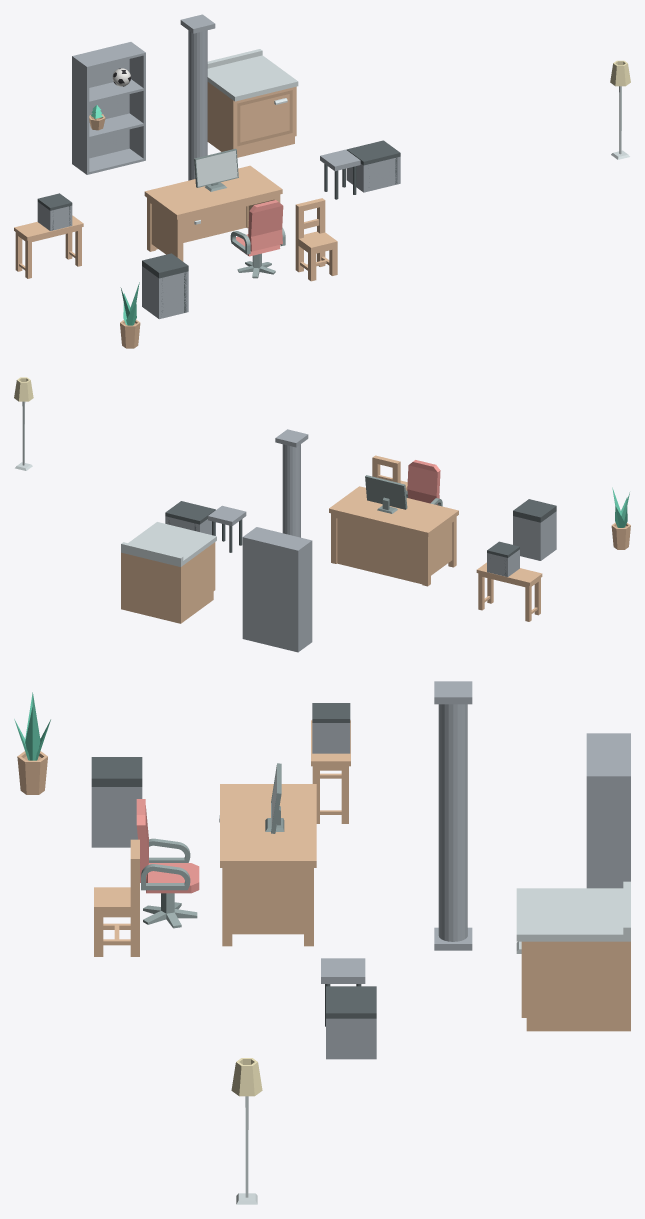
The picture shows the model from 3 angles, top to bottom: view 1: azimuth 30°, elevation 25°; view 2: azimuth 150°, elevation 25°; view 3: azimuth 270°, elevation 25°; orthographic projection. The views are drawn at different scales.
Parts seen in each view (by area): view 1: desk_blue__desk(Clone), cabinet_blue__kitchenCabinet(Clone), column_cyan__column_cyan shaft, cabinet_blue__door, chair_cyan__chair(Clone), shelf_orange__shelf_orange back, deskchair_black__chair, shelf_orange__shelf_orange side_l, bin_gray__bin_gray shell, sidetable_brown__sideTable(Clone), monitor_gray__computerScreen(Clone), shelf_orange__shelf_orange side_r (+11 smaller); view 2: desk_blue__desk(Clone), cabinet_blue__kitchenCabinet(Clone), shelf_orange__shelf_orange back, shelf_orange__shelf_orange side_l, column_cyan__column_cyan shaft, bin_gray__bin_gray shell, sidetable_brown__sideTable(Clone), deskchair_black__chair, monitor_gray__computerScreen(Clone), shelf_orange__shelf_orange board3, crate_red__crate_red lid, lamp_white__lampRoundFloor(Clone) (+7 smaller); view 3: cabinet_blue__kitchenCabinet(Clone), desk_blue__desk(Clone), column_cyan__column_cyan shaft, shelf_orange__shelf_orange side_r, chair_cyan__chair(Clone), deskchair_black__chair, bin_gray__bin_gray shell, crate_red__crate_red shell, shelf_orange__shelf_orange board3, sidetable_brown__sideTable(Clone), crate_red__crate_red lid, lamp_white__lampRoundFloor(Clone) (+9 smaller).
Boxes of the visible parts, x1,y1,x2,y2 form: desk_blue__desk(Clone): [144, 165, 282, 261]; cabinet_blue__kitchenCabinet(Clone): [207, 49, 298, 157]; column_cyan__column_cyan shaft: [188, 30, 207, 180]; cabinet_blue__door: [237, 90, 292, 146]; chair_cyan__chair(Clone): [295, 198, 337, 281]; shelf_orange__shelf_orange back: [74, 42, 129, 158]; deskchair_black__chair: [230, 200, 285, 256]; shelf_orange__shelf_orange side_l: [72, 55, 89, 174]; bin_gray__bin_gray shell: [142, 266, 188, 319]; sidetable_brown__sideTable(Clone): [14, 215, 83, 278]; monitor_gray__computerScreen(Clone): [194, 148, 238, 191]; shelf_orange__shelf_orange side_r: [129, 42, 145, 160]; desk_blue__desk(Clone): [329, 486, 458, 586]; cabinet_blue__kitchenCabinet(Clone): [121, 522, 216, 623]; shelf_orange__shelf_orange back: [244, 537, 296, 651]; shelf_orange__shelf_orange side_l: [296, 540, 312, 652]; column_cyan__column_cyan shaft: [282, 444, 300, 537]; bin_gray__bin_gray shell: [513, 511, 556, 560]; sidetable_brown__sideTable(Clone): [476, 562, 542, 621]; deskchair_black__chair: [406, 460, 442, 506]; monitor_gray__computerScreen(Clone): [365, 475, 407, 513]; shelf_orange__shelf_orange board3: [246, 527, 309, 549]; crate_red__crate_red lid: [165, 501, 215, 524]; lamp_white__lampRoundFloor(Clone): [14, 377, 33, 470]; cabinet_blue__kitchenCabinet(Clone): [516, 881, 630, 1031]; desk_blue__desk(Clone): [220, 784, 316, 946]; column_cyan__column_cyan shaft: [438, 704, 467, 941]; shelf_orange__shelf_orange side_r: [586, 774, 630, 888]; chair_cyan__chair(Clone): [94, 839, 139, 956]; deskchair_black__chair: [136, 799, 199, 893]; bin_gray__bin_gray shell: [91, 787, 142, 847]; crate_red__crate_red shell: [326, 1018, 376, 1059]; shelf_orange__shelf_orange board3: [586, 734, 628, 774]; sidetable_brown__sideTable(Clone): [311, 720, 350, 823]; crate_red__crate_red lid: [326, 986, 376, 1018]; lamp_white__lampRoundFloor(Clone): [231, 1058, 262, 1204].
Size of the model in its own units: 7.86 by 2.2 by 4.86.
